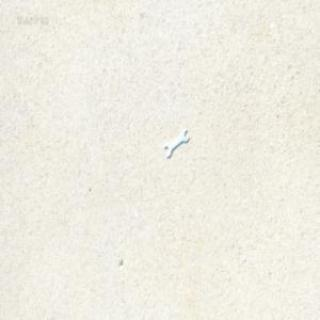Wrenchtrack_idkeyframe: (163, 126, 186, 156)
